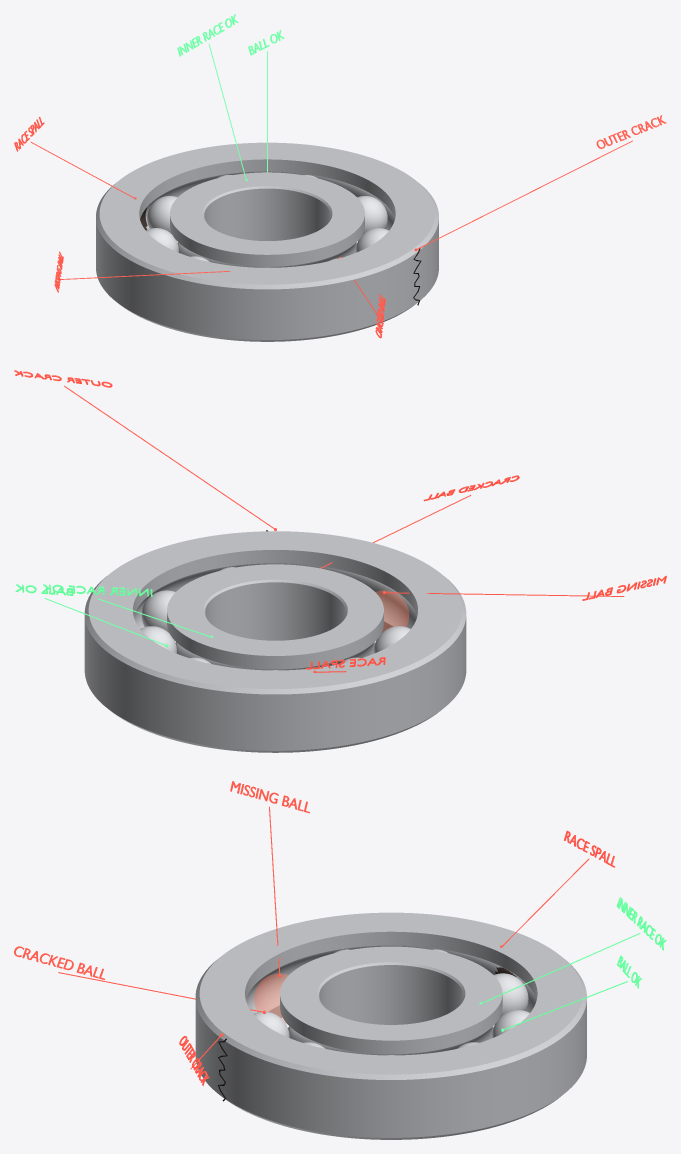
The model's file is bearing_fault.glb.
The picture shows the model from 3 angles, top to bottom: view 1: azimuth 30°, elevation 25°; view 2: azimuth 150°, elevation 25°; view 3: azimuth 270°, elevation 25°; orthographic projection. The views are drawn at different scales.
Visible parts, largest first — view 1: OuterRace, InnerRace, Ball_0, Ball_3; view 2: OuterRace, InnerRace, Ball_0, MissingBall_Ghost; view 3: OuterRace, InnerRace, MissingBall_Ghost, Ball_3, Label_CRACKED_BALL, Label_MISSING_BALL, Ball_2.
Part boxes in pixels (x1,y1,x2,y2): OuterRace: [96, 142, 438, 341]; InnerRace: [170, 172, 364, 267]; Ball_0: [357, 196, 387, 233]; Ball_3: [147, 196, 177, 233]; OuterRace: [84, 531, 466, 752]; InnerRace: [167, 564, 383, 670]; Ball_0: [141, 590, 175, 632]; MissingBall_Ghost: [376, 590, 408, 632]; OuterRace: [195, 912, 586, 1139]; InnerRace: [280, 946, 502, 1055]; MissingBall_Ghost: [254, 973, 288, 1023]; Ball_3: [494, 973, 528, 1016]; Label_CRACKED_BALL: [14, 946, 104, 979]; Label_MISSING_BALL: [230, 781, 309, 813]; Ball_2: [492, 1010, 529, 1037].
Size of the model in its own units: 0.0767 by 0.0182 by 0.0634.
